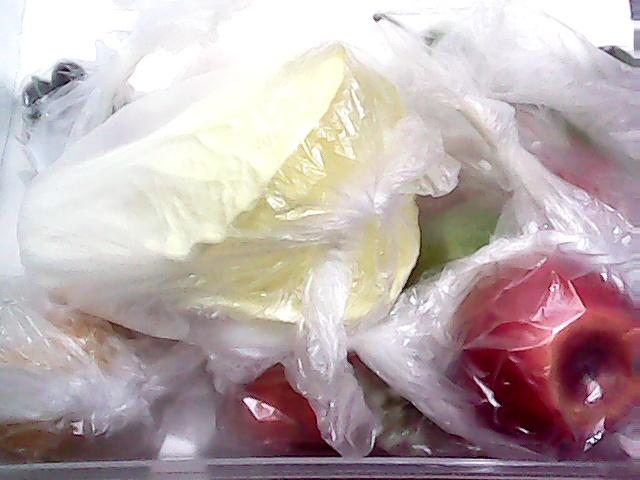apple: (420, 228, 640, 458)
carrot: (506, 93, 630, 219)
grape: (3, 53, 167, 140), (350, 358, 442, 458)
napa cabbage: (0, 49, 452, 334)
peach: (212, 326, 376, 460)
potato: (0, 292, 168, 464)
